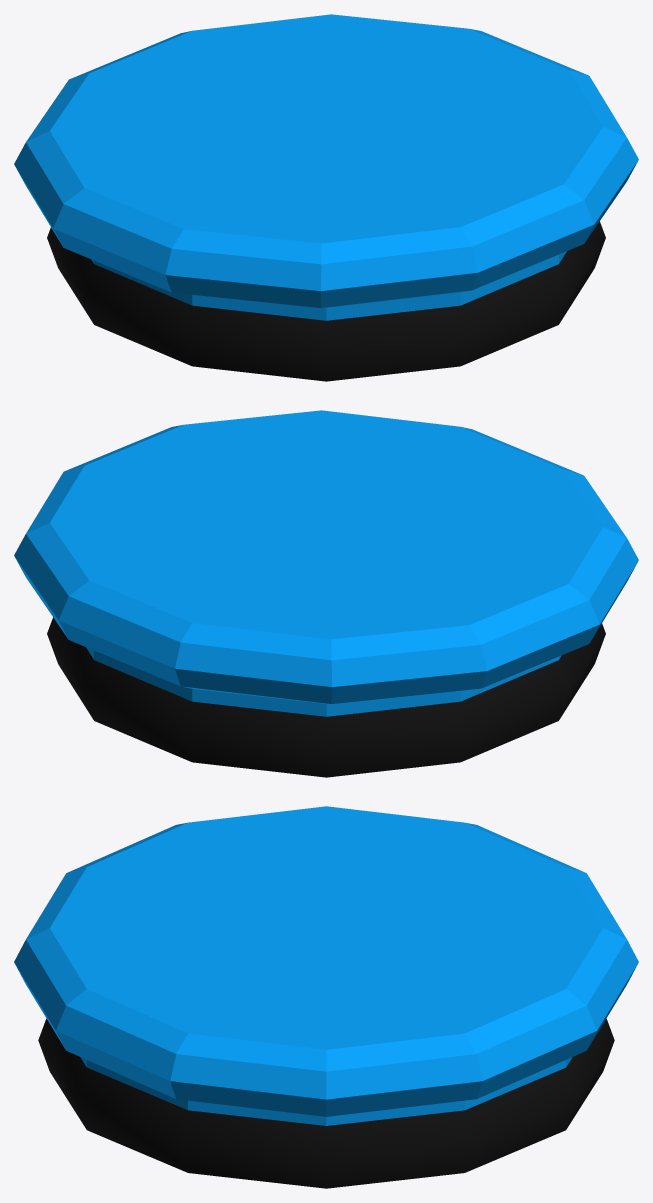
File: Bumper.FBX
3 views of the same model, one above another, from view 1: azimuth 30°, elevation 25°; view 2: azimuth 150°, elevation 25°; view 3: azimuth 270°, elevation 25° (orthographic). The views are drawn at different scales.
Parts seen in each view (by area): view 1: Cylinder004; view 2: Cylinder004; view 3: Cylinder004.
Part boxes in pixels (left/top/right/bottom): Cylinder004: left=14, top=14, right=638, bottom=381; Cylinder004: left=14, top=410, right=638, bottom=777; Cylinder004: left=14, top=806, right=638, bottom=1188.
Size of the model in its own units: 28.24 by 6.87 by 27.11.
